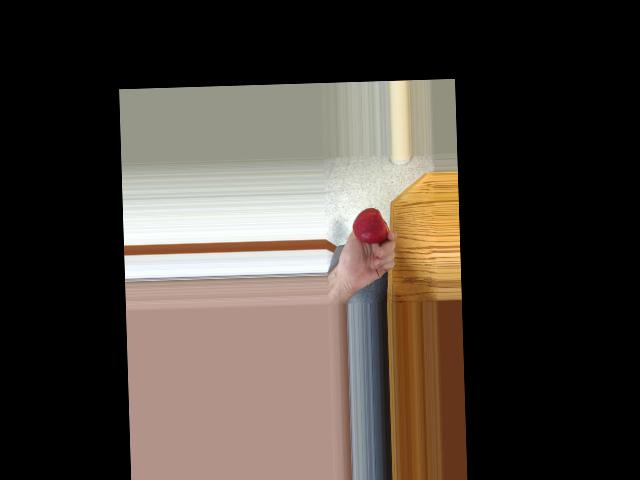apple: (351, 206, 389, 246)
